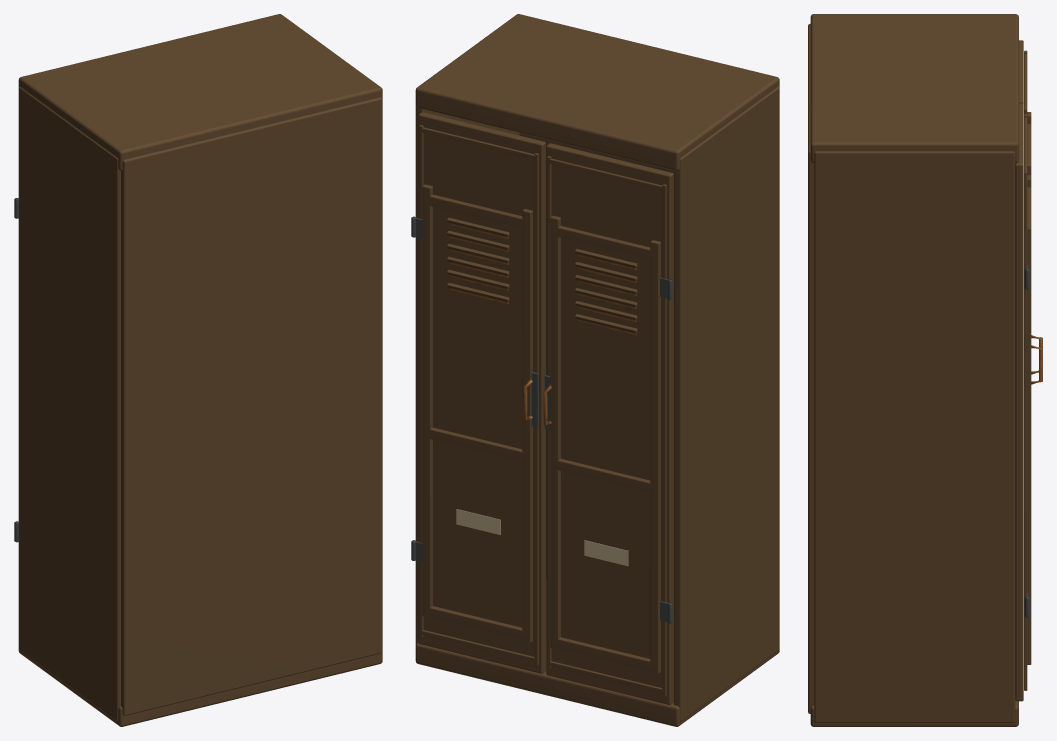
The model's file is cabinet-timber.fbx.
3 renders of one model, left to right at view 1: azimuth 30°, elevation 25°; view 2: azimuth 150°, elevation 25°; view 3: azimuth 270°, elevation 25°, orthographic.
Parts seen in each view (by area): view 1: cabinet-timber; view 2: cabinet-timber; view 3: cabinet-timber.
Boxes of the visible parts, box(x1,y1,x2,y2) form: cabinet-timber: box(14, 14, 382, 726); cabinet-timber: box(411, 14, 779, 726); cabinet-timber: box(808, 14, 1042, 726).
Bounding box in the file's own units: 89.9 × 188 × 67.78.
